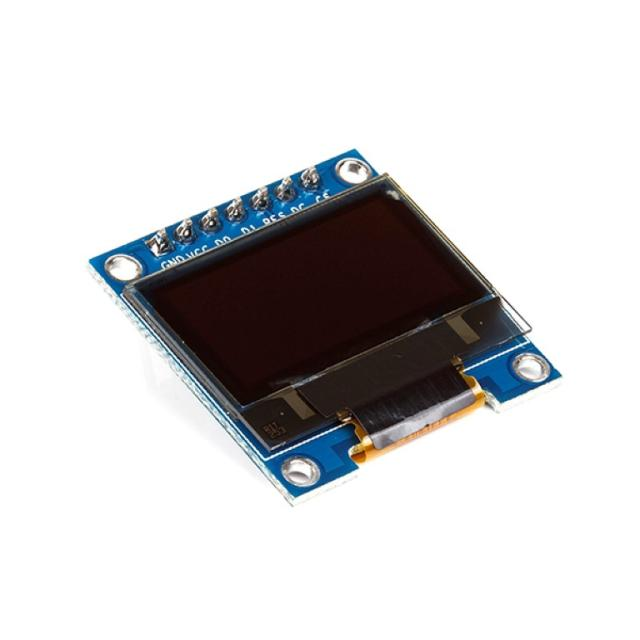Display: (80, 138, 573, 515)
